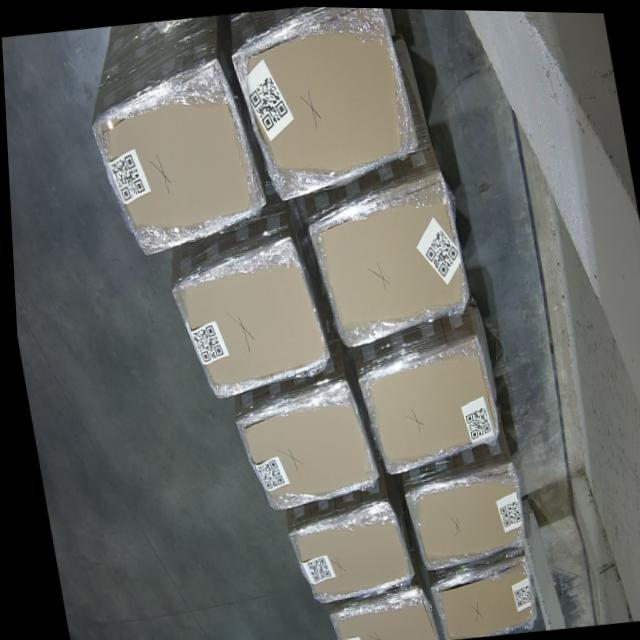pallet: (232, 6, 424, 205), (87, 58, 265, 257), (304, 168, 469, 346), (165, 235, 322, 403), (354, 336, 499, 471), (233, 387, 373, 513), (401, 460, 523, 569), (284, 502, 406, 602), (424, 550, 534, 638), (323, 589, 435, 640)
